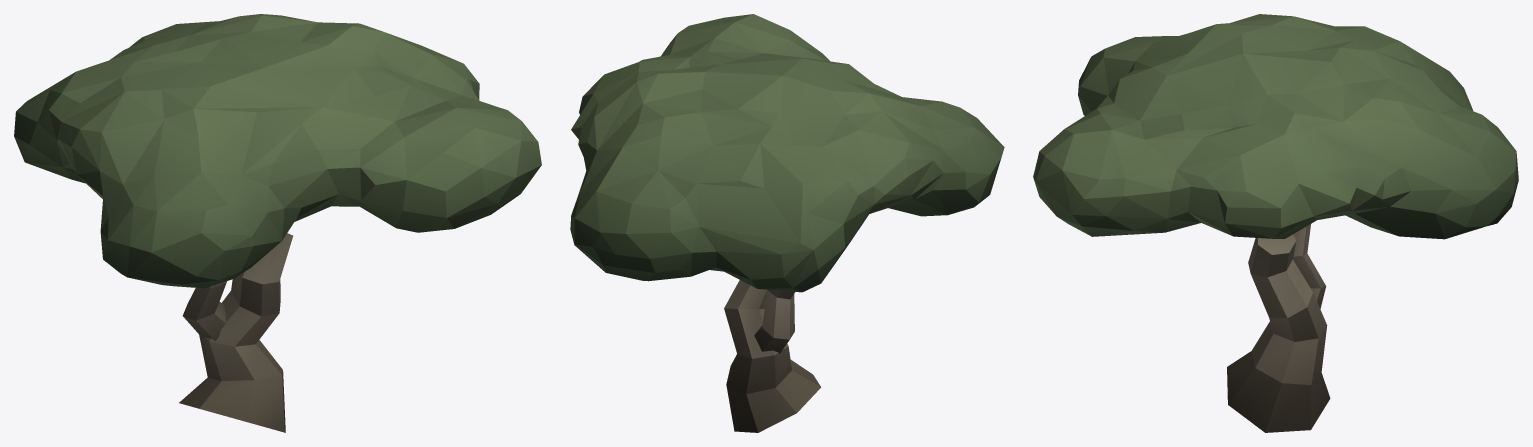
Rendered from oliwka_0.glb.
The picture shows the model from 3 angles, left to right: view 1: azimuth 30°, elevation 25°; view 2: azimuth 150°, elevation 25°; view 3: azimuth 270°, elevation 25°; orthographic projection. The views are drawn at different scales.
Parts seen in each view (by area): view 1: oliwka_0; view 2: oliwka_0; view 3: oliwka_0.
Boxes of the visible parts, bbox=[...] form: oliwka_0: bbox=[14, 14, 541, 432]; oliwka_0: bbox=[570, 14, 1004, 432]; oliwka_0: bbox=[1033, 14, 1518, 432].
Bounding box in the file's own units: 1.43 × 1.28 × 1.54.
